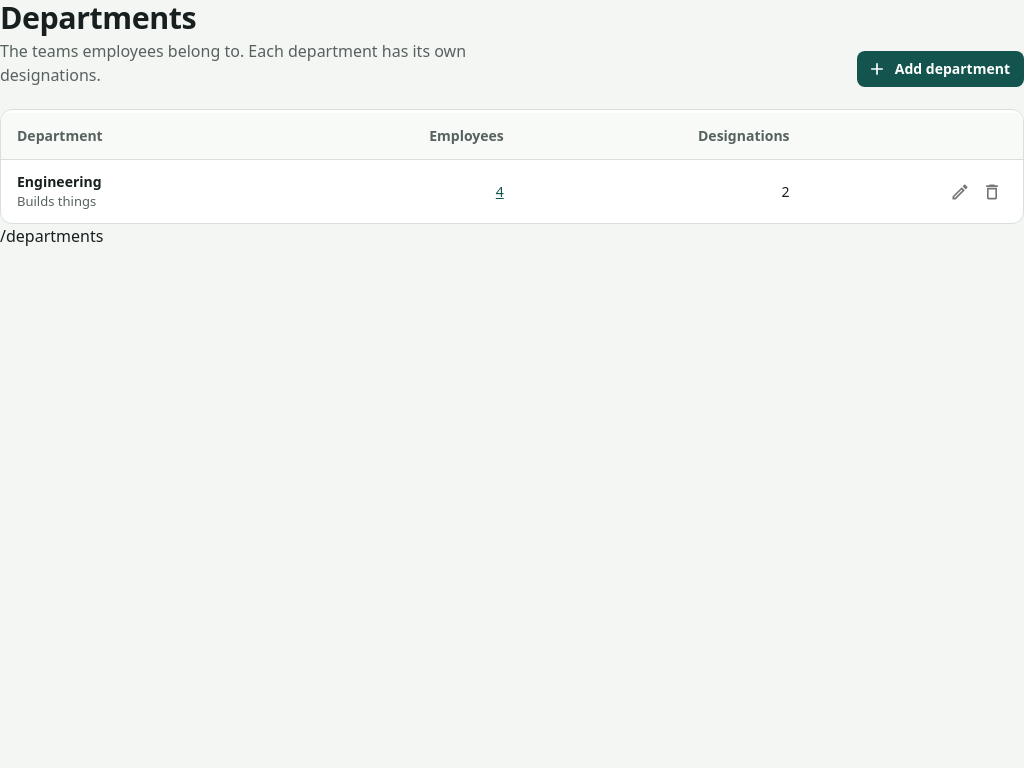
Test: DepartmentsPage › adds a department and shows server-side conflicts on the field
Click the button "Add department" at [940, 69], box x1=857 y1=51 x2=1023 y2=88
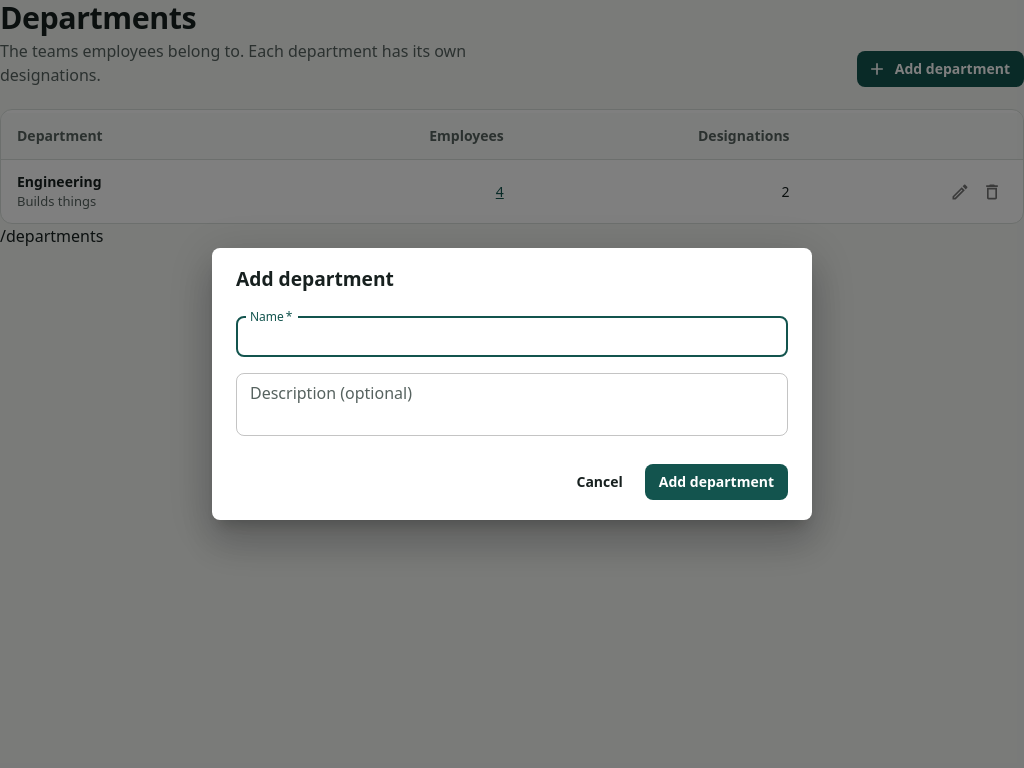
Click the button "Add department" at [716, 482], box x1=645 y1=464 x2=788 y2=500
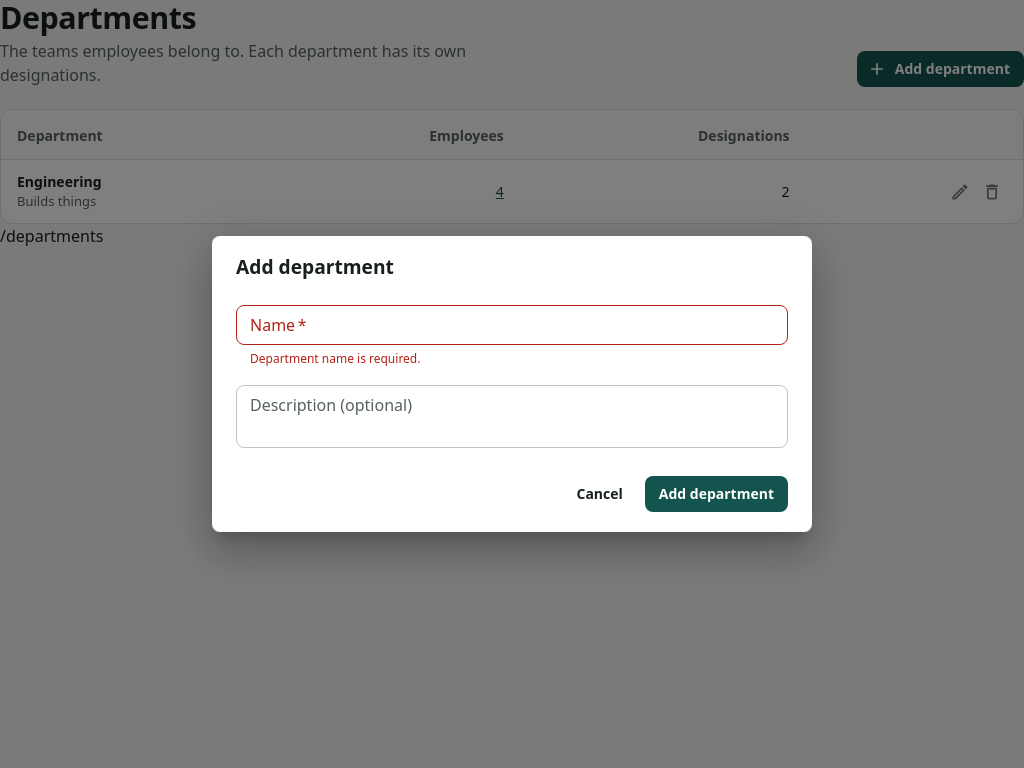
Check: the text "Department name is required." is shown, box x1=250 y1=350 x2=420 y2=367
Type "engineering" into the field labelled "Name *" at [512, 325], box x1=236 y1=305 x2=788 y2=345
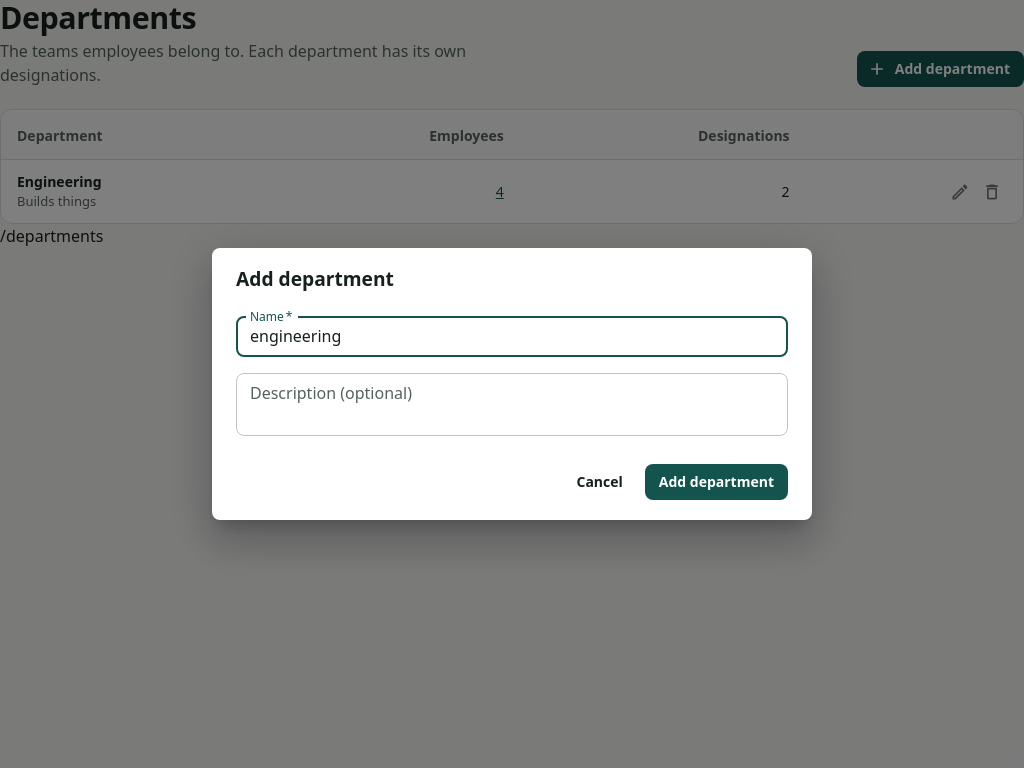
Click the button "Add department" at [716, 482], box x1=645 y1=464 x2=788 y2=500
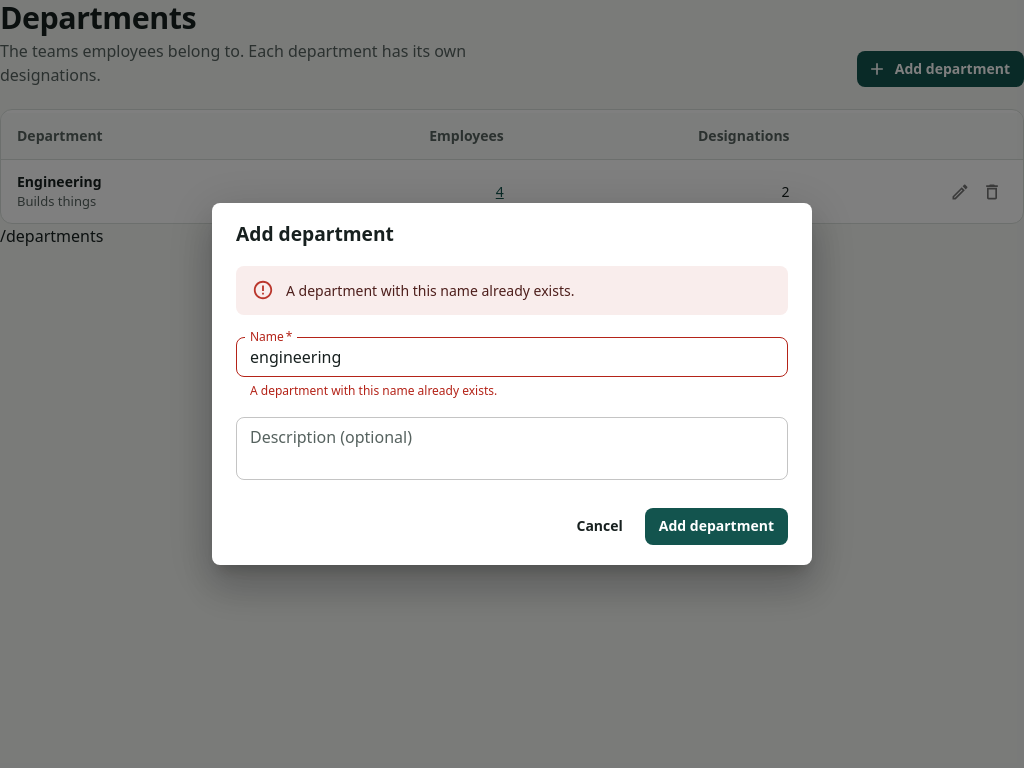
Check: the text "A department with this name already exists." is shown 2 times, box x1=286 y1=281 x2=574 y2=300; x1=250 y1=382 x2=497 y2=399
Clear the field labelled "Name *" at [512, 357], box x1=236 y1=337 x2=788 y2=377
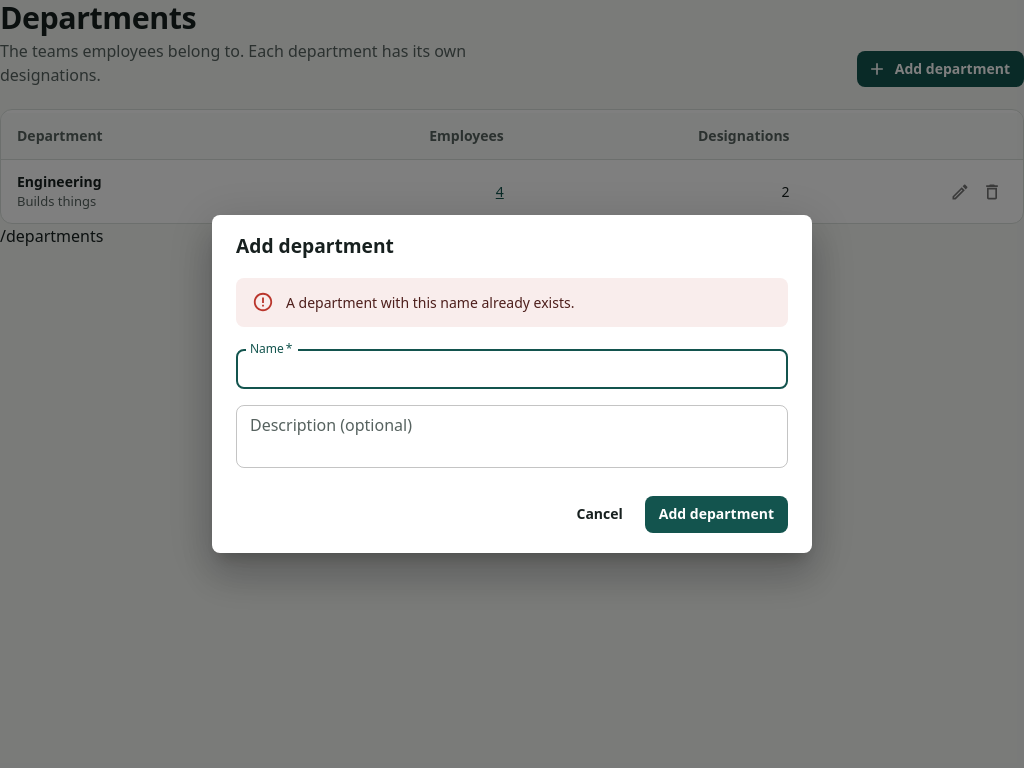
Type "Finance" into the field labelled "Name *" at [512, 369], box x1=236 y1=349 x2=788 y2=389
Click the button "Add department" at [716, 514], box x1=645 y1=496 x2=788 y2=533
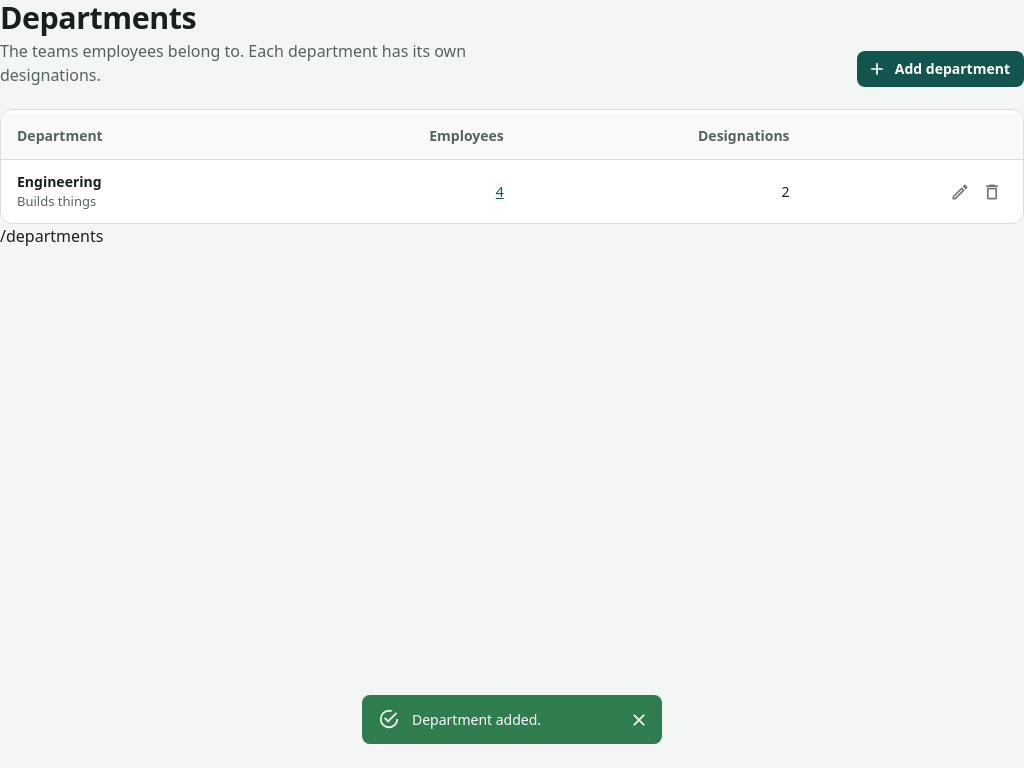
Check: the text "Department added." is shown, box x1=412 y1=710 x2=541 y2=729
